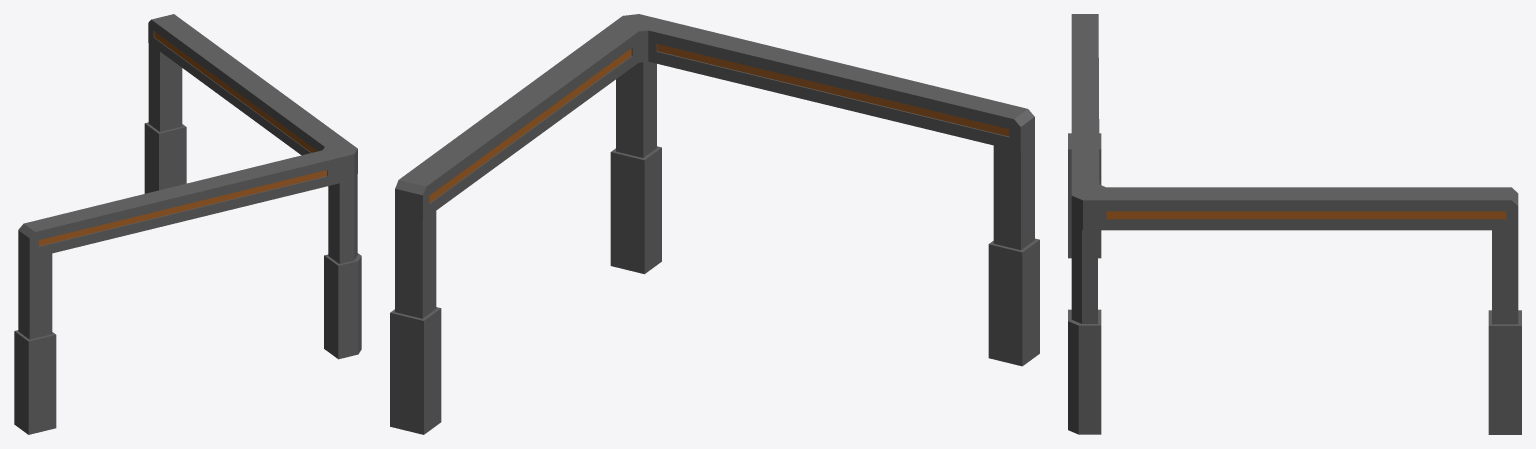
The model's file is railing_corner.fbx.
3 views of the same model, side by side, from view 1: azimuth 30°, elevation 25°; view 2: azimuth 150°, elevation 25°; view 3: azimuth 270°, elevation 25° (orthographic). The views are drawn at different scales.
Visible parts, largest first — view 1: pCube14; view 2: pCube14; view 3: pCube14.
Boxes of the visible parts, left/top/right/bottom form: pCube14: left=14, top=14, right=361, bottom=434; pCube14: left=390, top=14, right=1039, bottom=434; pCube14: left=1068, top=14, right=1521, bottom=434.
Bounding box in the file's own units: 470 × 266 × 469.
